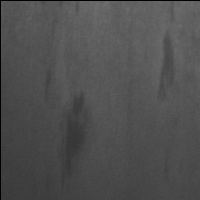inclusion: (54, 86, 97, 195), (152, 27, 182, 112), (36, 64, 58, 107), (160, 150, 177, 185)
